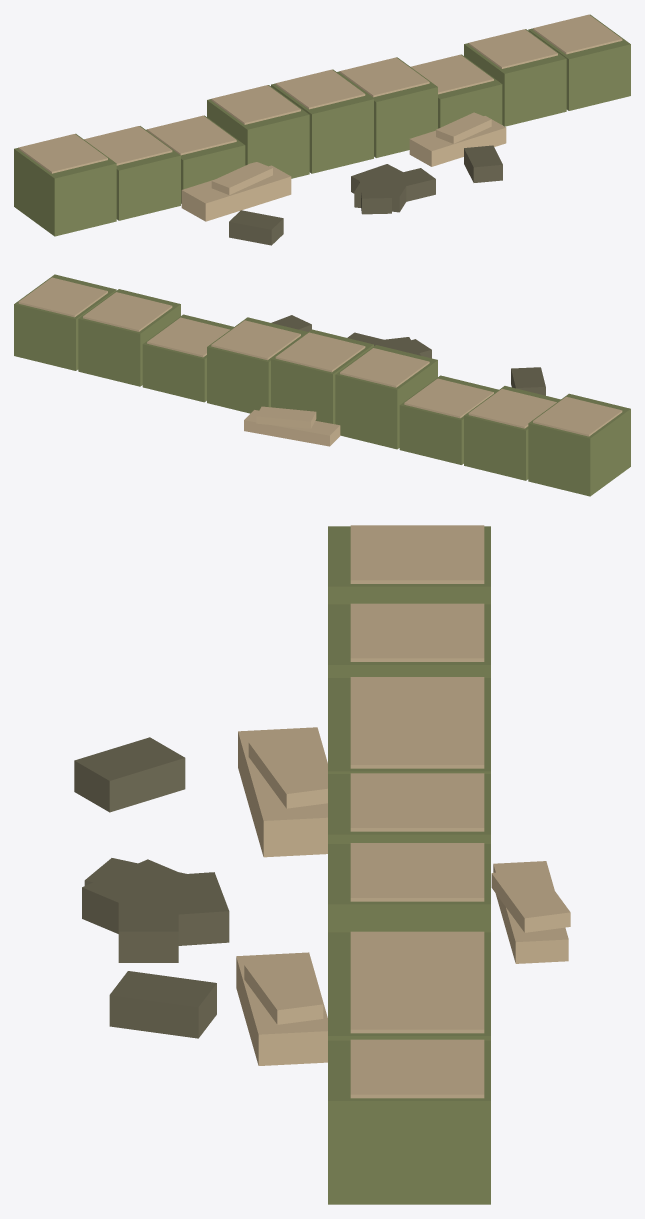
File: SM_MuroHesco_v3_RemateSacos_e2_MuyDanado_LOD1.fbx
3 renders of one model, top to bottom at view 1: azimuth 30°, elevation 25°; view 2: azimuth 150°, elevation 25°; view 3: azimuth 270°, elevation 25°, orthographic. The views are drawn at different scales.
Parts seen in each view (by area): view 1: SM_bloques.muro_hesco_estados_v14_LOD1; view 2: SM_bloques.muro_hesco_estados_v14_LOD1; view 3: SM_bloques.muro_hesco_estados_v14_LOD1.
Boxes of the visible parts, box(x1,y1,x2,y2) form: SM_bloques.muro_hesco_estados_v14_LOD1: box(14, 14, 630, 245); SM_bloques.muro_hesco_estados_v14_LOD1: box(14, 274, 630, 496); SM_bloques.muro_hesco_estados_v14_LOD1: box(74, 525, 570, 1204).
Bounding box in the file's own units: 9.96 × 1.02 × 3.71.
